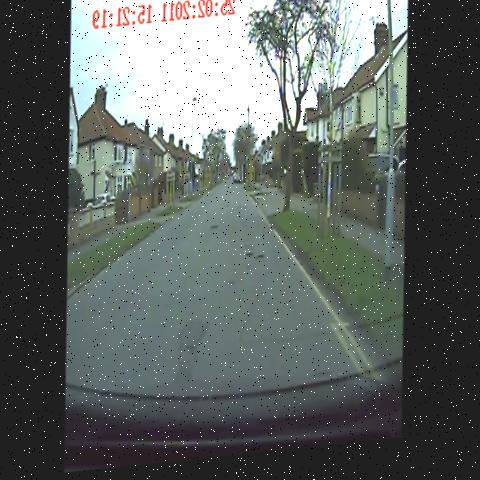pothole: (181, 325, 208, 383), (245, 247, 272, 275), (227, 274, 241, 302), (205, 220, 222, 241), (236, 201, 249, 221), (221, 198, 232, 220)
